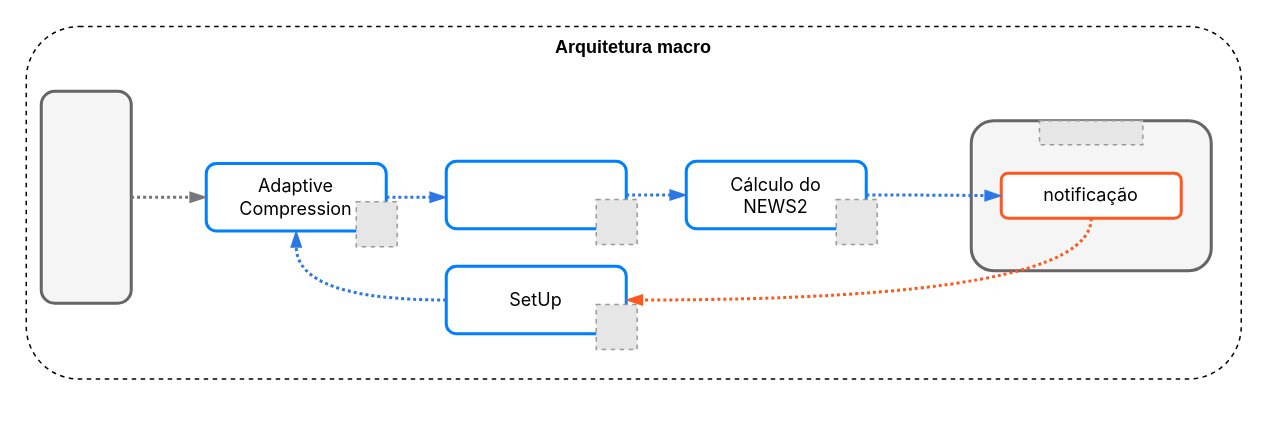
This 1268x425 diagram has some shape labels left out. Grey dashed boxes stand in for pictures. The shapes that lost their labels are listed below. From the top down, each one's box as (x1, y1, x2, y2) in pixels, then its label:
(39, 89, 132, 304): Sensores
(444, 159, 627, 230): Output Compress
